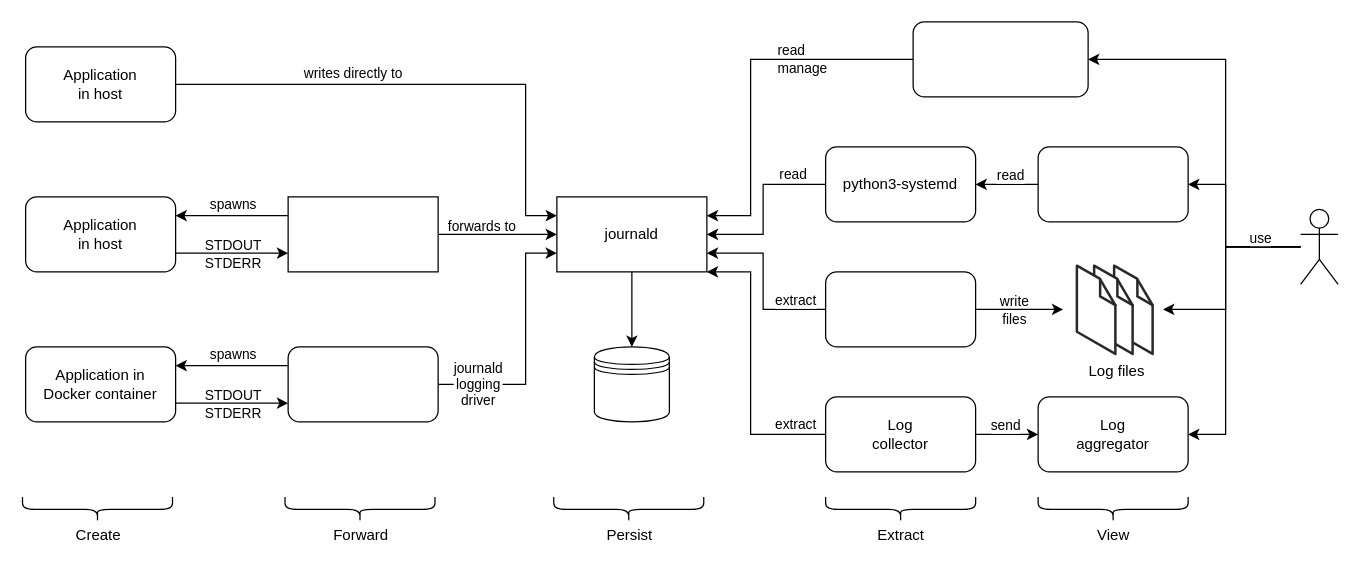
This 1370x576 diagram has some shape labels left out. Each missing label, with the centre of its shape:
"Logs" UMC module: (1112,184)
Docker daemon: (362,384)
journalctl: (1000,59)
Operator: (1318,246)
rsyslog: (900,309)
systemd: (362,234)
